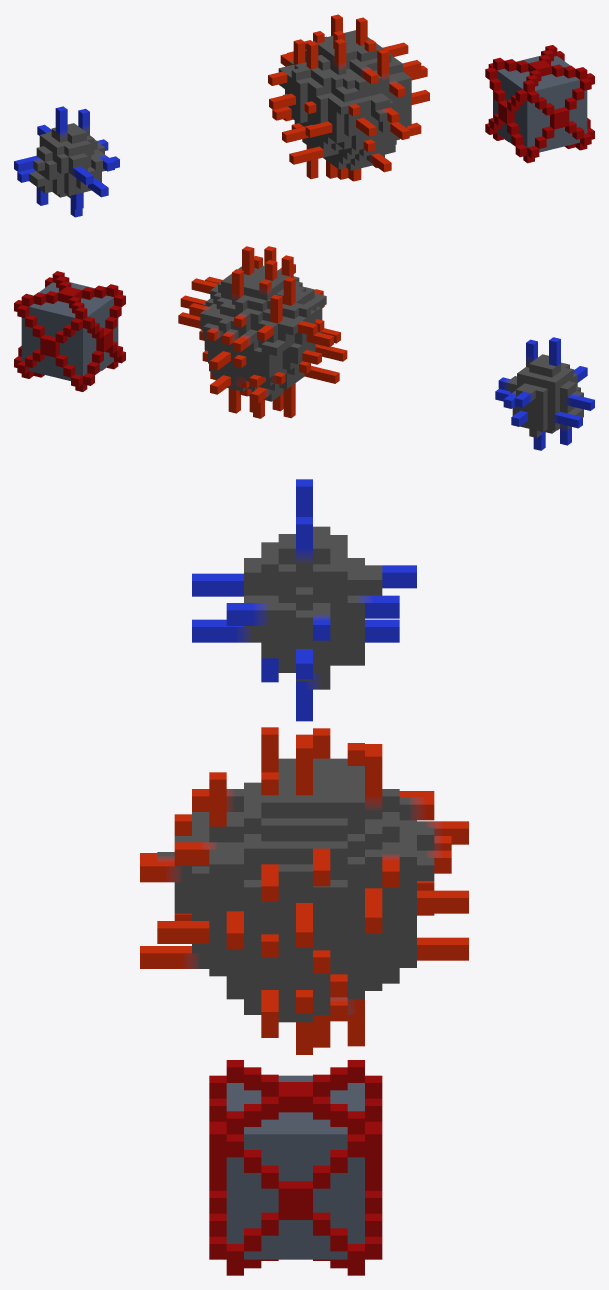
Rendered from obstacle_new.dae.
The picture shows the model from 3 angles, top to bottom: view 1: azimuth 30°, elevation 25°; view 2: azimuth 150°, elevation 25°; view 3: azimuth 270°, elevation 25°; orthographic projection. The views are drawn at different scales.
Visible parts, largest first — view 1: Big_obstacle, explosion_bomb, Small_obstacle; view 2: Big_obstacle, explosion_bomb, Small_obstacle; view 3: Big_obstacle, explosion_bomb, Small_obstacle.
Part boxes in pixels (left/top/right/bottom): Big_obstacle: left=268, top=14, right=429, bottom=181; explosion_bomb: left=485, top=45, right=594, bottom=163; Small_obstacle: left=14, top=106, right=119, bottom=217; Big_obstacle: left=178, top=246, right=347, bottom=418; explosion_bomb: left=14, top=271, right=125, bottom=391; Small_obstacle: left=495, top=337, right=594, bottom=450; Big_obstacle: left=140, top=727, right=468, bottom=1054; explosion_bomb: left=209, top=1060, right=382, bottom=1275; Small_obstacle: left=192, top=479, right=416, bottom=721.
Size of the model in its own units: 74 by 21 by 19.
